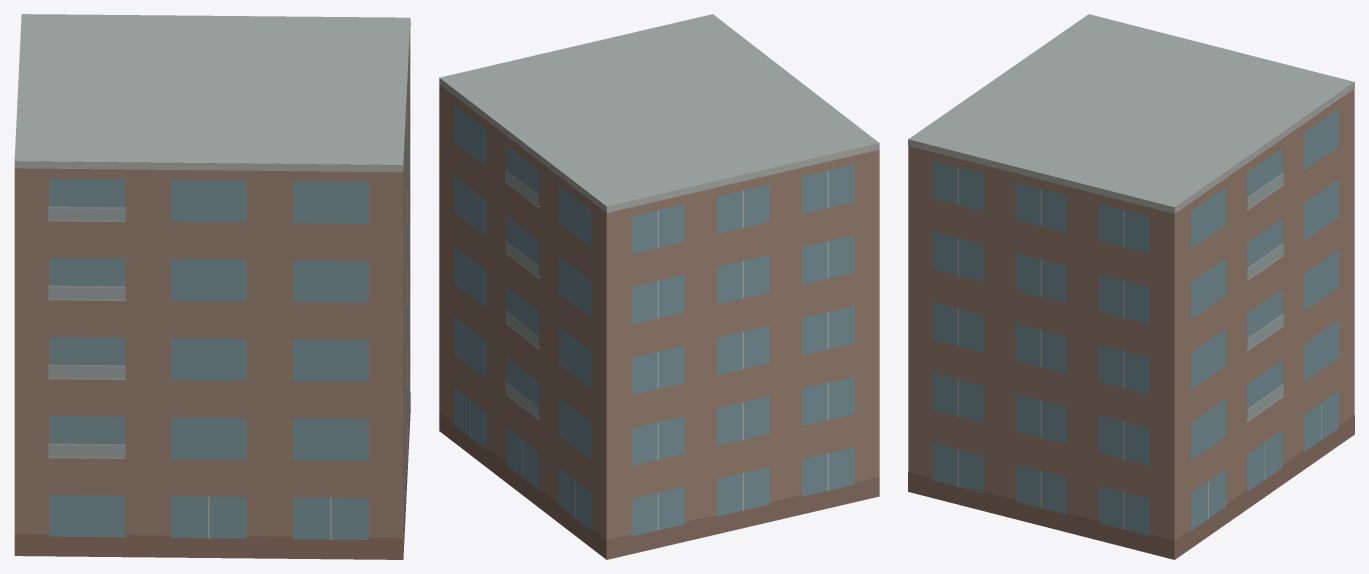
The model's file is survey-upis-32846942.glb.
3 renders of one model, left to right at view 1: azimuth 30°, elevation 25°; view 2: azimuth 150°, elevation 25°; view 3: azimuth 270°, elevation 25°, orthographic. The views are drawn at different scales.
Parts seen in each view (by area): view 1: survey-upis-32846942.tmp; view 2: survey-upis-32846942.tmp; view 3: survey-upis-32846942.tmp.
Boxes of the visible parts, bbox=[...] form: survey-upis-32846942.tmp: bbox=[14, 14, 410, 559]; survey-upis-32846942.tmp: bbox=[439, 14, 879, 559]; survey-upis-32846942.tmp: bbox=[908, 14, 1354, 559].
Bounding box in the file's own units: 15.54 × 13.2 × 15.16.
